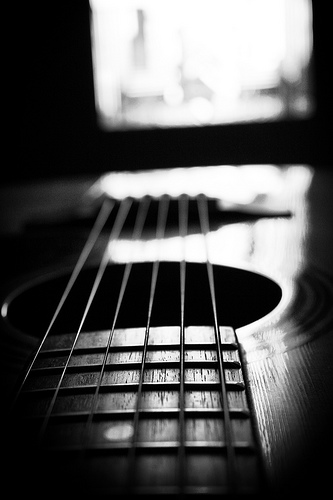guitar: (1, 159, 333, 500)
